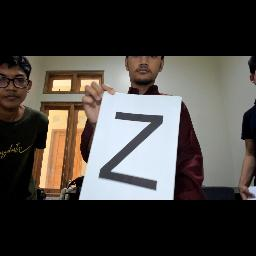z: (92, 106, 174, 194)
